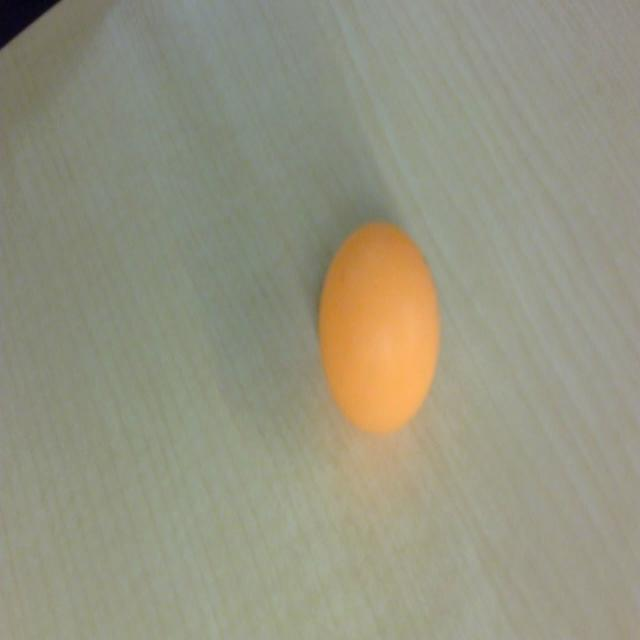ball: (317, 222, 441, 442)
